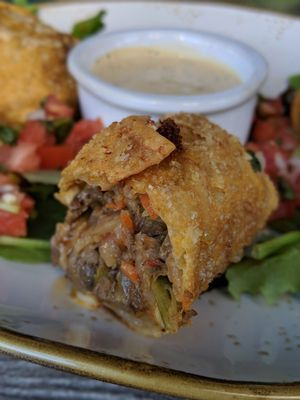soup: (48, 112, 287, 338)
sushi: (66, 27, 269, 145)
